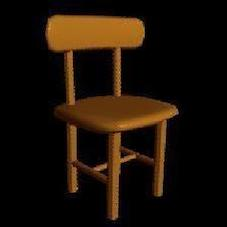chair: (33, 12, 188, 217)
